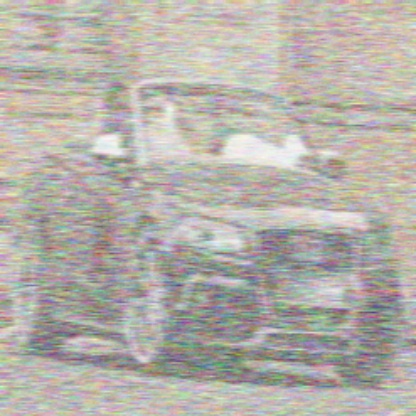Vehicle: (14, 74, 406, 373)
